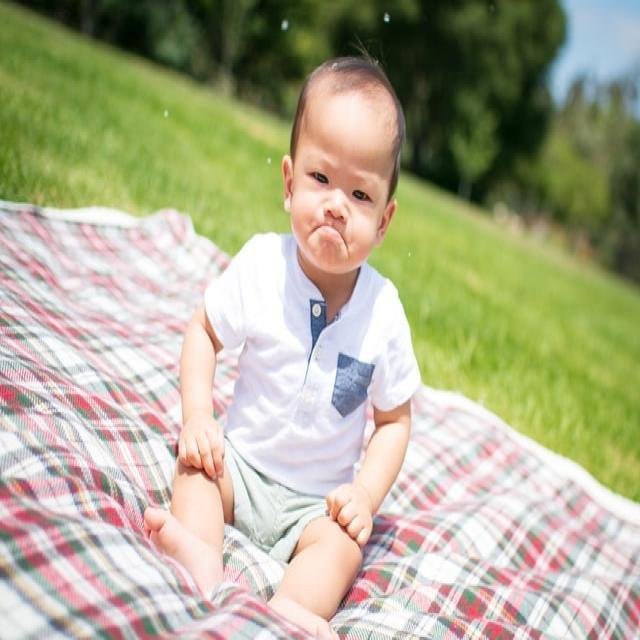non-dog: (141, 54, 423, 630)
